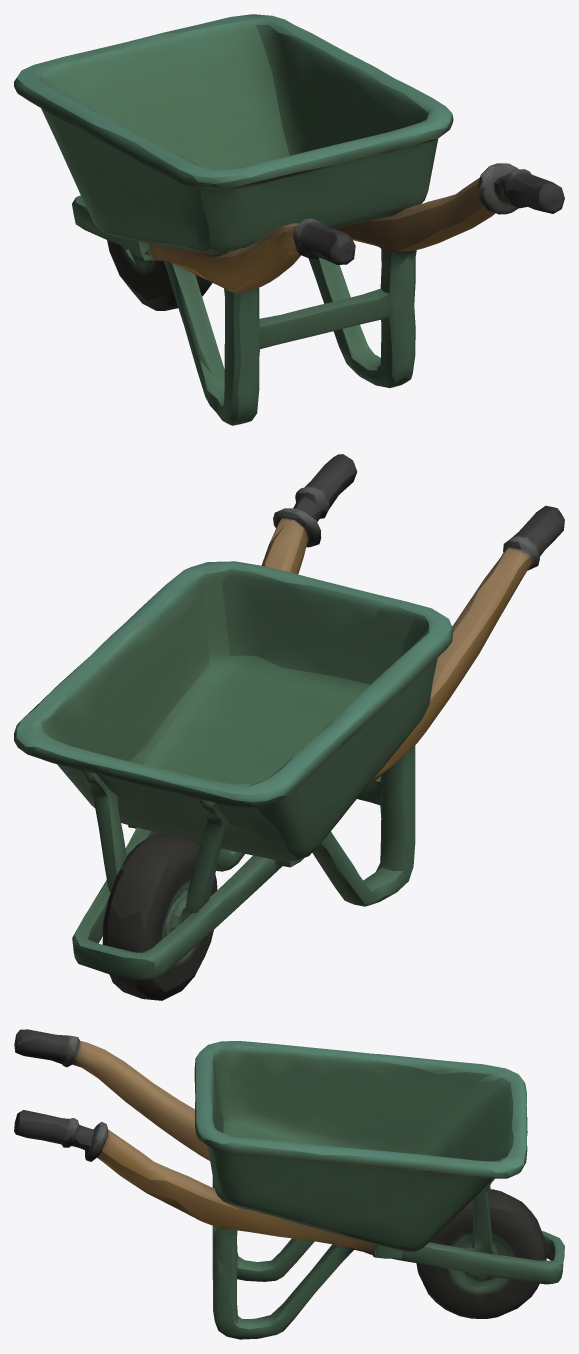
File: ENV_09_WHEELBARROW.glb
3 renders of one model, top to bottom at view 1: azimuth 30°, elevation 25°; view 2: azimuth 150°, elevation 25°; view 3: azimuth 270°, elevation 25°, orthographic. The views are drawn at different scales.
Parts seen in each view (by area): view 1: world; view 2: world; view 3: world.
Boxes of the visible parts, x1=… form: world: x1=14, y1=14, x2=564, y2=425; world: x1=14, y1=454, x2=564, y2=1000; world: x1=14, y1=1029, x2=564, y2=1339.
Size of the model in its own units: 0.456 by 0.4898 by 1.
Materials: 1 (1 with a texture image).
